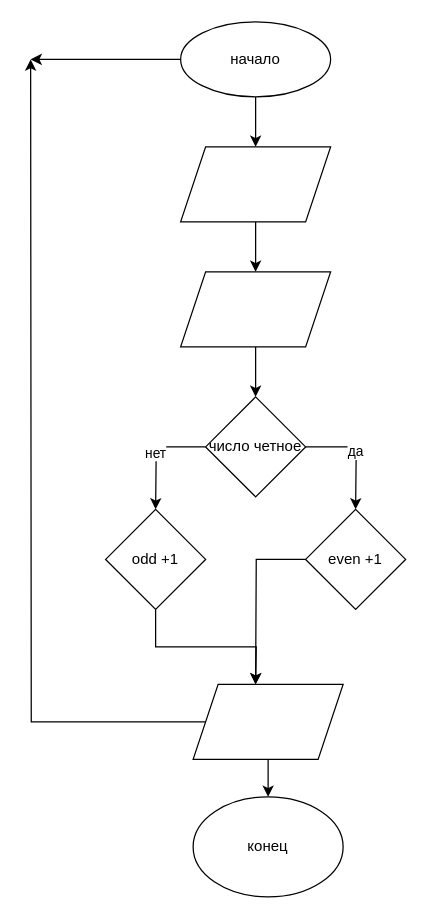
The diagram is 428 pixels wide and 919 high, and some of its shapes have lost their labels. The box of each missing label's shape, as (x1, y1, x2, y2) in pixels:
n // 10: (192, 683, 343, 759)
введите num: (179, 146, 331, 222)
установить счетчик even odd: (179, 271, 331, 347)
